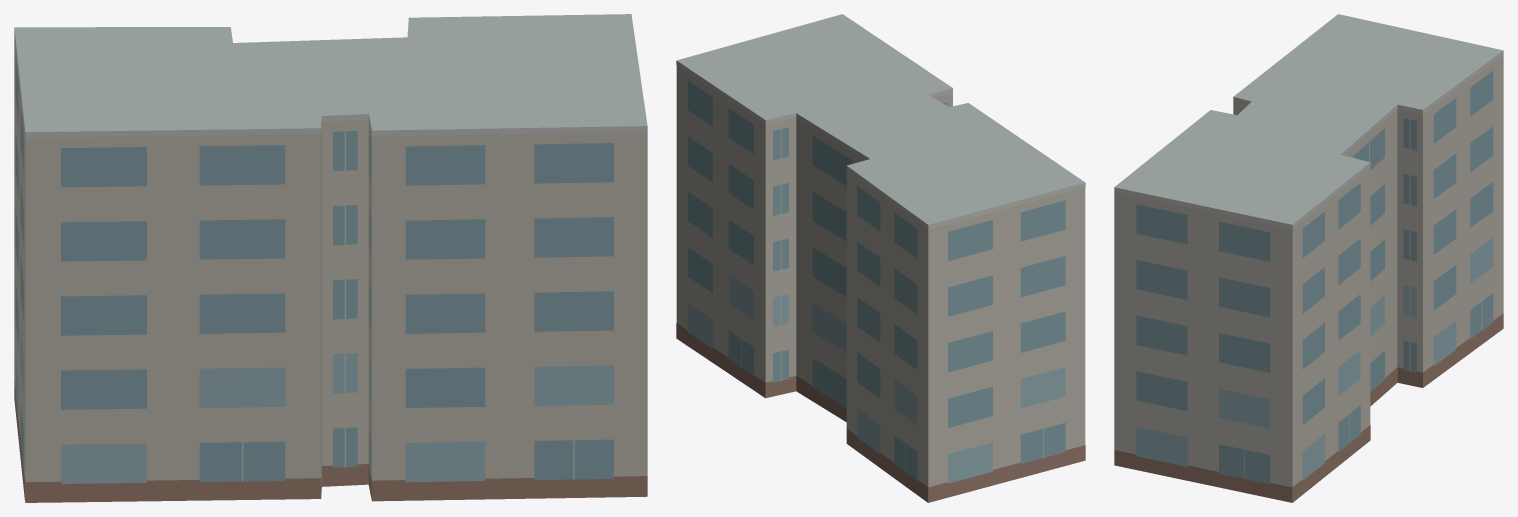
The model's file is survey-upis-33011819.glb.
3 renders of one model, left to right at view 1: azimuth 30°, elevation 25°; view 2: azimuth 150°, elevation 25°; view 3: azimuth 270°, elevation 25°, orthographic. The views are drawn at different scales.
Visible parts, largest first — view 1: survey-upis-33011819.tmp; view 2: survey-upis-33011819.tmp; view 3: survey-upis-33011819.tmp.
Part boxes in pixels (x1,y1,x2,y2): survey-upis-33011819.tmp: (14, 14, 647, 502); survey-upis-33011819.tmp: (676, 14, 1085, 502); survey-upis-33011819.tmp: (1114, 14, 1503, 502).
Size of the model in its own units: 24.8 by 15.25 by 19.36.
